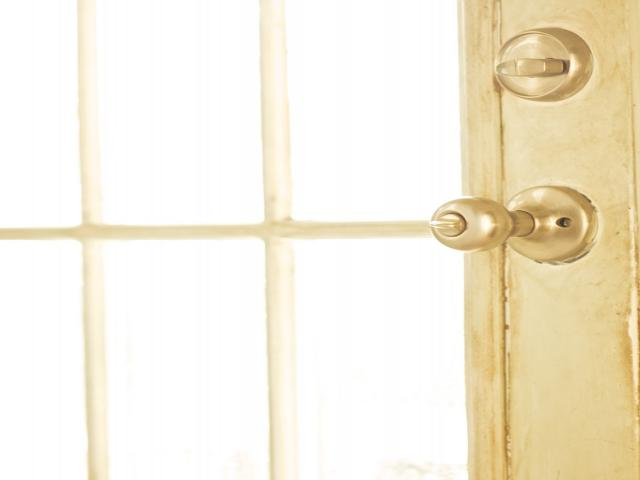Door-handle: (425, 183, 597, 266)
